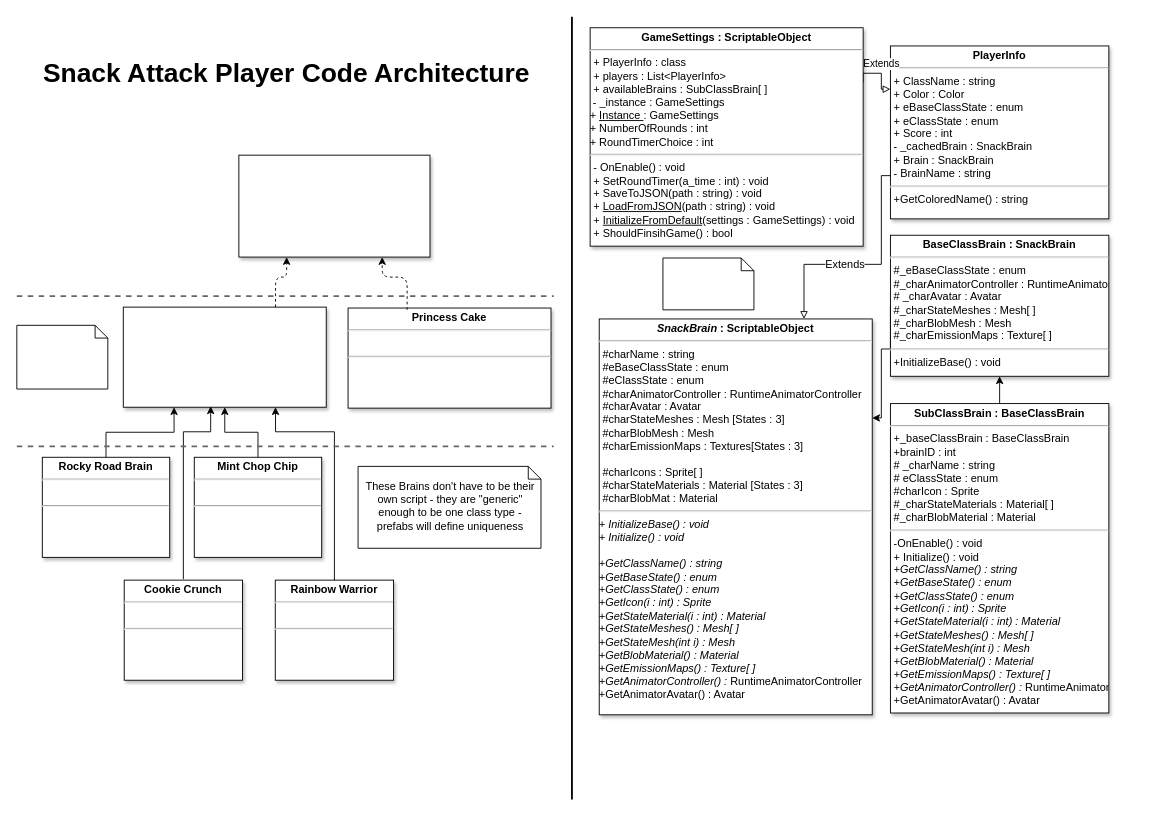
Some shapes in this 1174 by 815 pixel diagram are drawn without their labels. Here are the shapes that lost their labels. From the top down, the centre of each, then its label:
the point at 334,207: SnackBrain : ScriptableObject
the point at 708,283: 2 Base Characters
the point at 62,356: These Base Classes will be prefabs
the point at 225,358: RockyRoad
